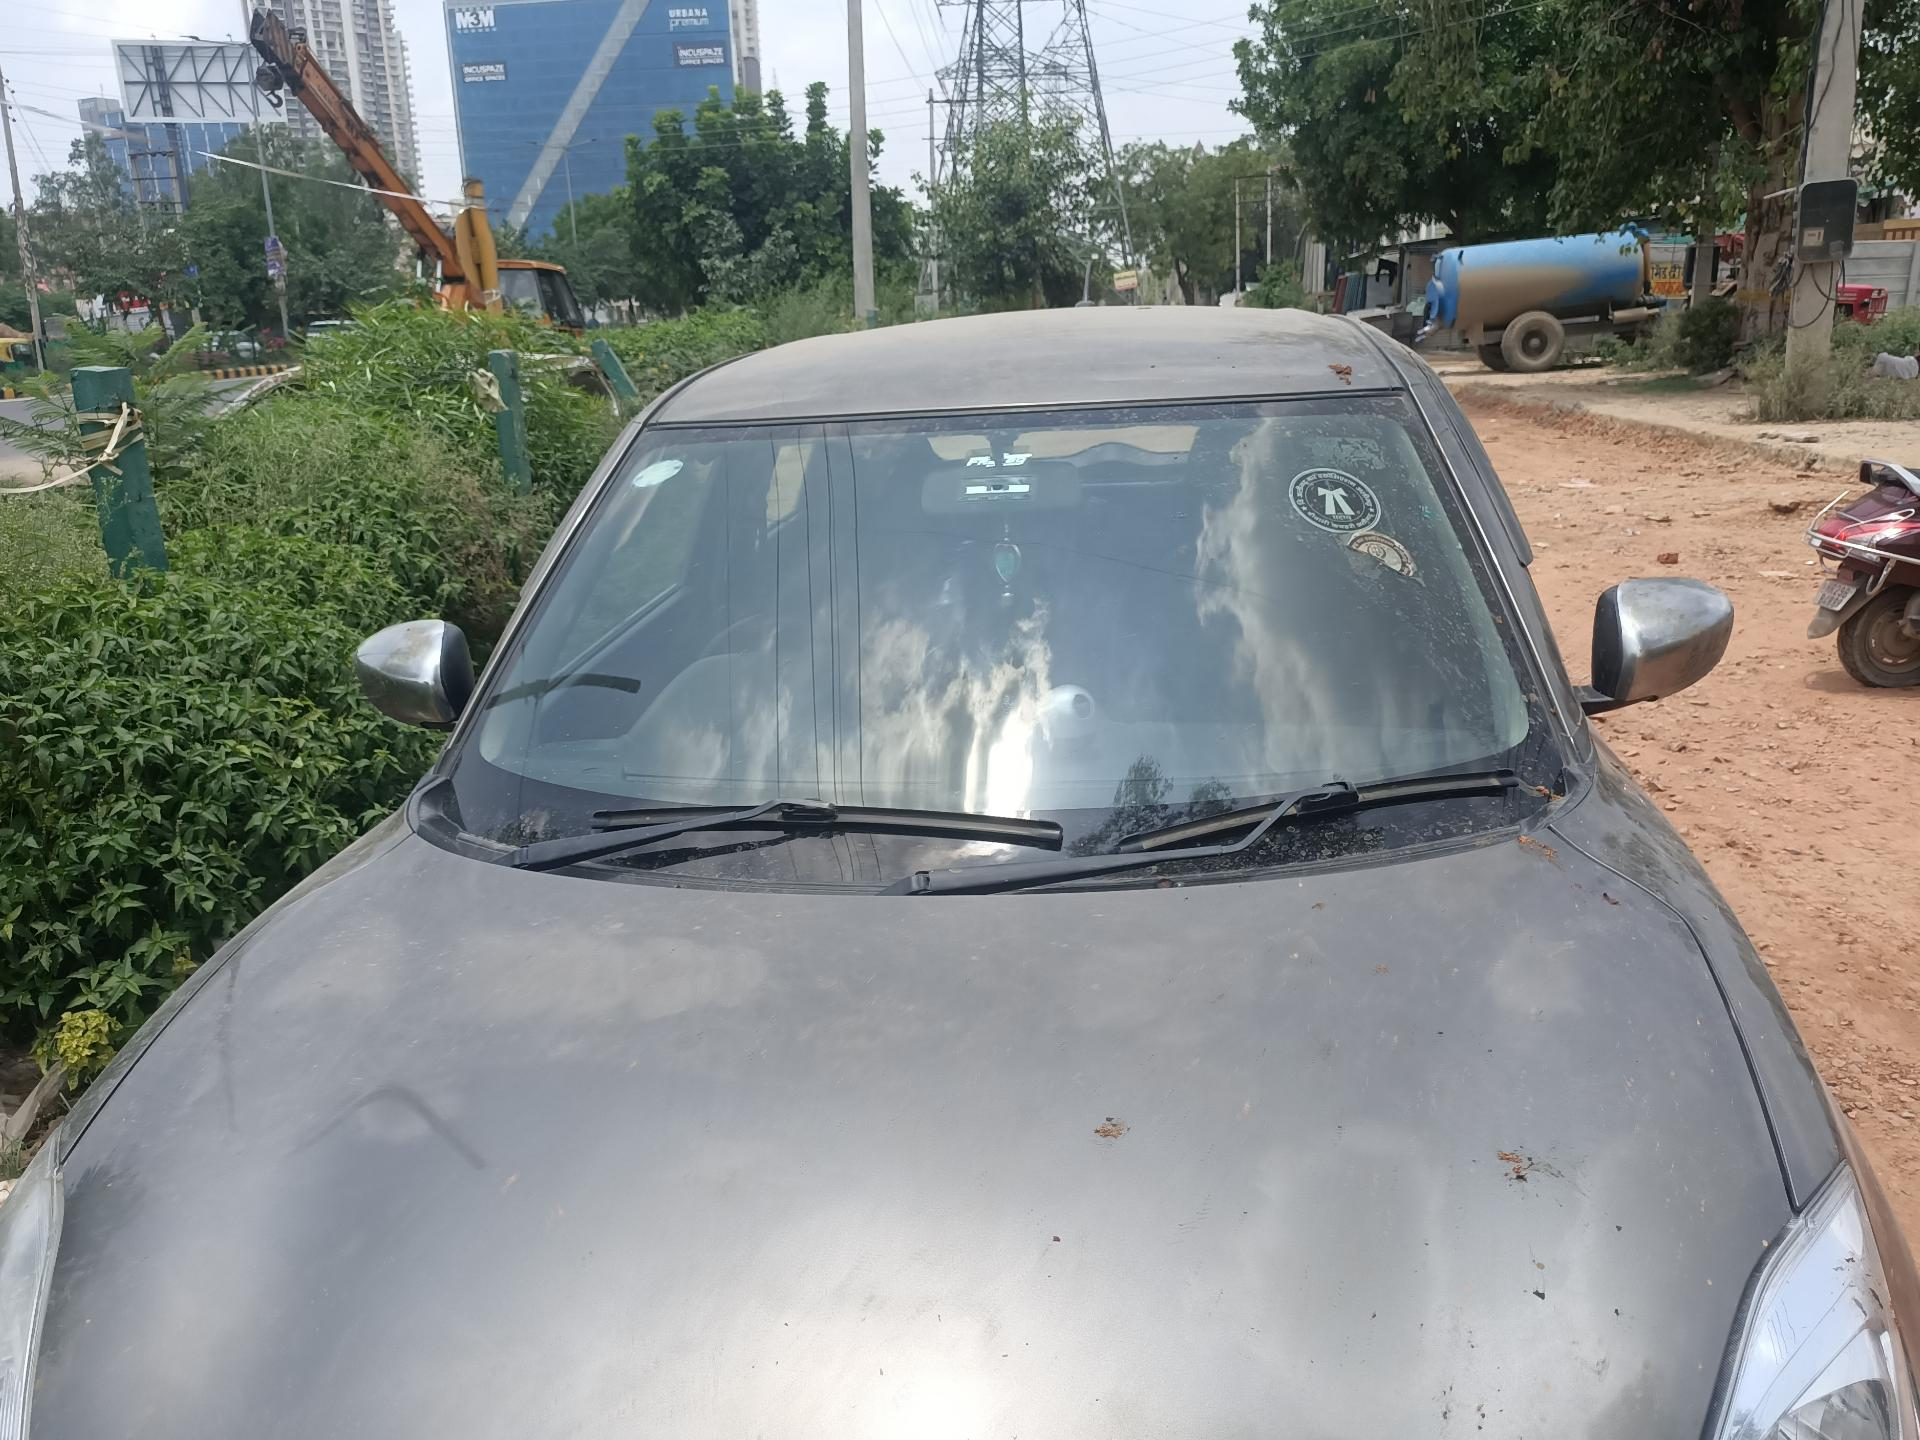FastTag: (949, 472, 1051, 504)
not a FastTag: (1279, 461, 1376, 535), (1339, 529, 1430, 594), (635, 451, 685, 495)
